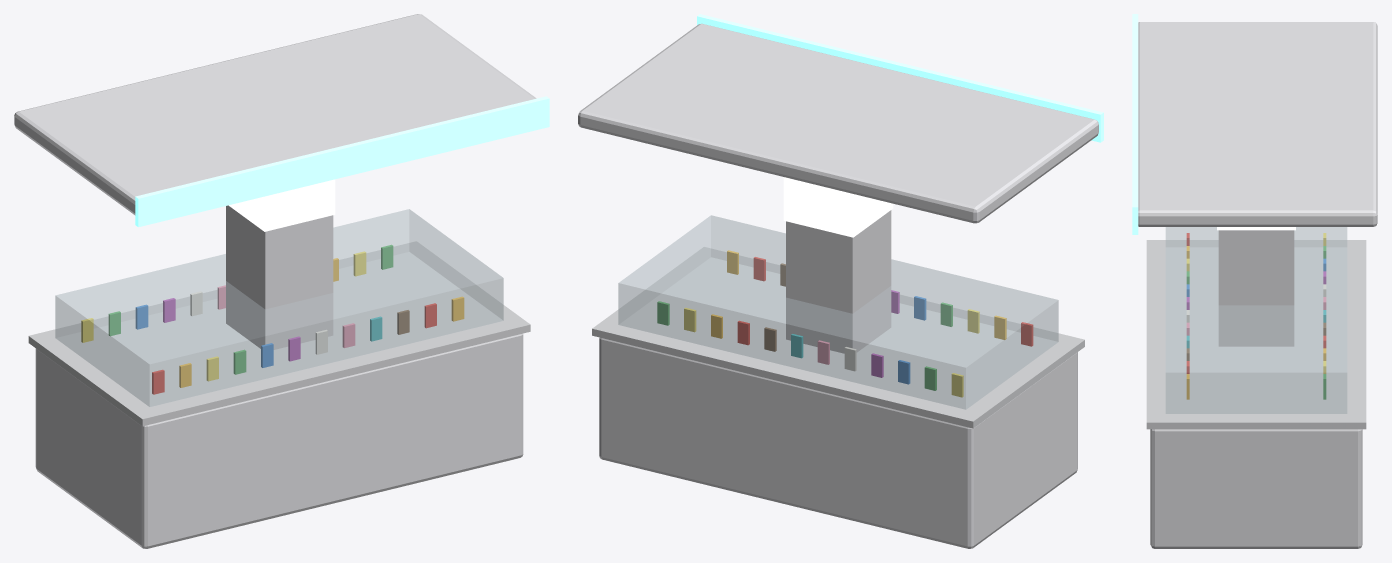
File: kiosk.glb
3 views of the same model, side by side, from view 1: azimuth 30°, elevation 25°; view 2: azimuth 150°, elevation 25°; view 3: azimuth 270°, elevation 25° (orthographic). The views are drawn at different scales.
Visible parts, largest first — view 1: kiosk; view 2: kiosk; view 3: kiosk.
Boxes of the visible parts, x1,y1,x2,y2 form: kiosk: (14,14,549,548); kiosk: (578,14,1103,548); kiosk: (1132,14,1377,548).
Size of the model in its own units: 3.02 by 2.55 by 1.62.
